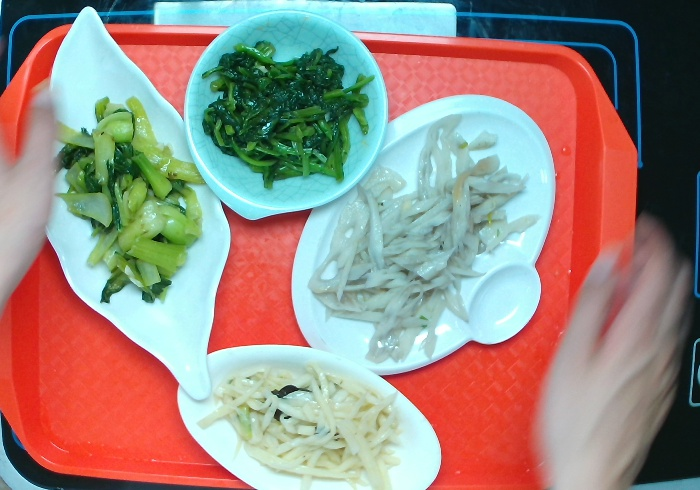RJxy-Bai_Se_Tuo_Yuan: (172, 339, 449, 490)
RJxy-Shu_Ye_Pan: (17, 1, 231, 401)
RJxy-Xiao_Jiao_Yuan_Wan: (184, 1, 389, 229)
RJxy-Zhan_Liao_Pan: (283, 90, 561, 381)
